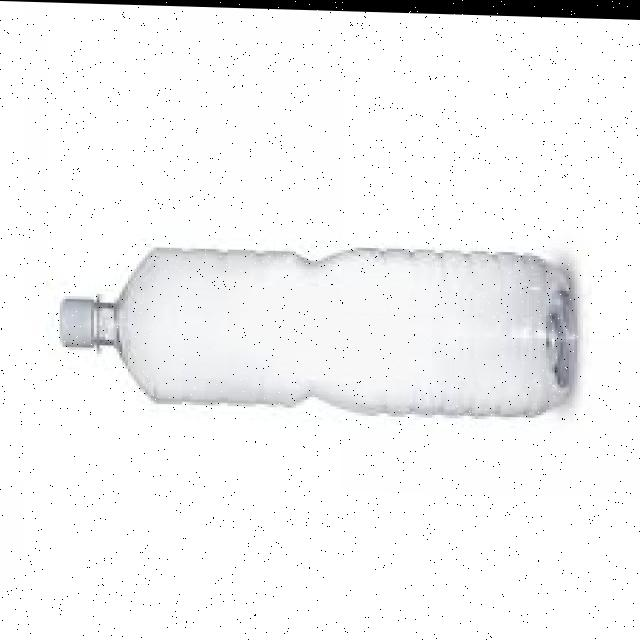bottle: (44, 149, 592, 471)
